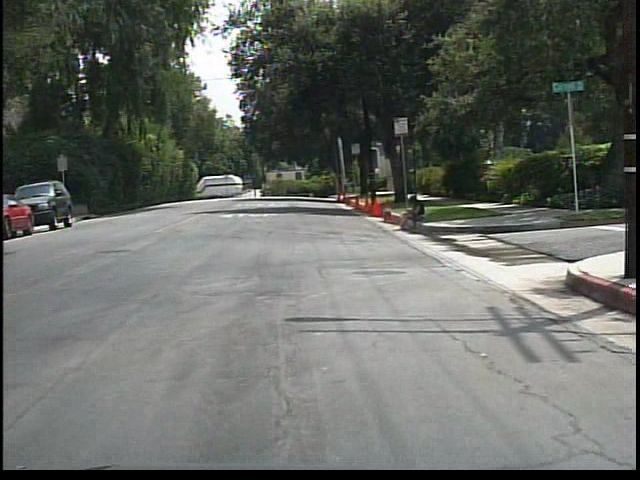person: (394, 191, 429, 236)
